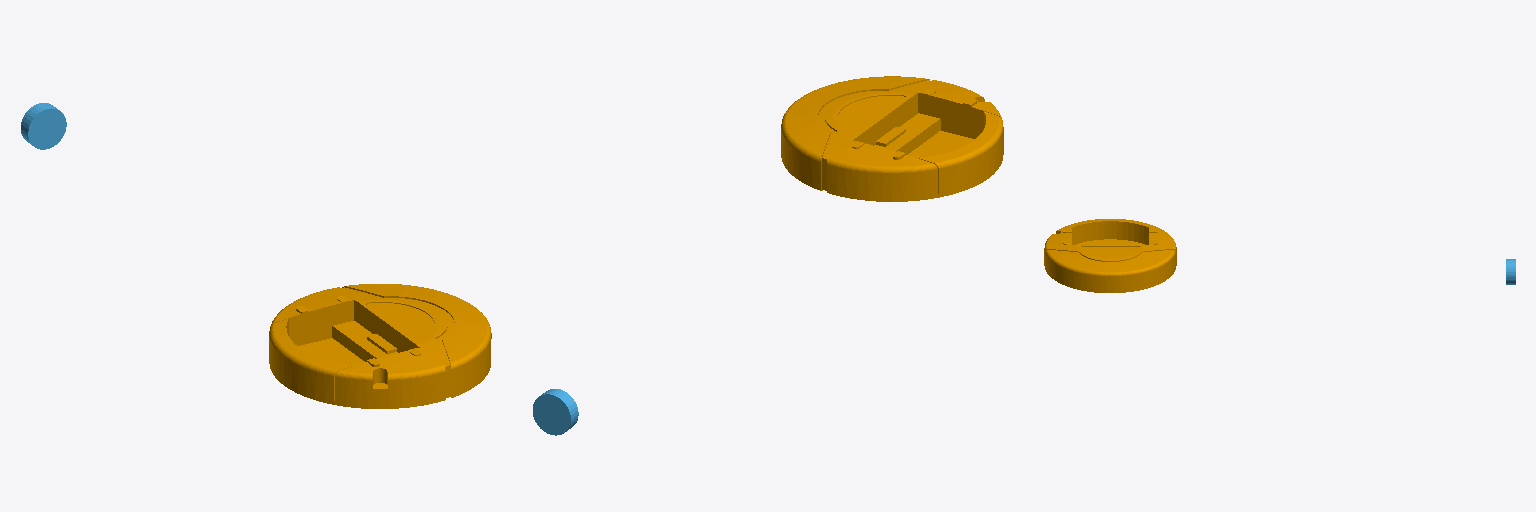
The robot description file, URDF, robot "roombaROS_cam":
<?xml version="1.0" ?>
<robot name="roombaROS_cam">
  <link name="base">
    <inertial>
      <origin rpy="0 0 0" xyz="0.001453 -0.000453 0.029787"/>
      <inertia ixx="0.058640" ixy="0.000124" ixz="0.000615" iyy="0.058786" iyz="0.000014" izz="1.532440"/>
      <mass value="2.234000"/>
    </inertial>
    <visual>
      <origin rpy="0 0 0" xyz="0 0 0.047800"/>
      <geometry>
        <mesh filename="package://roomba_robot/models/roombaROS/meshes/create_body.dae"/>
      </geometry>
    </visual>
    <visual>
      <origin rpy="0 1.570700 1.570700" xyz="0.130000 0 0.017000"/>
      <geometry>
        <sphere radius="0.009000"/>
      </geometry>
    </visual>
    <visual>
      <origin rpy="0 1.570700 1.570700" xyz="-0.130000 0 0.017000"/>
      <geometry>
        <sphere radius="0.007500"/>
      </geometry>
    </visual>
  </link>
  <link name="left_wheel">
    <origin rpy="0 0 0" xyz="0 0.130000 0.032000"/>
    <inertial>
      <inertia ixx="0.001000" ixy="0" ixz="0" iyy="0.001000" iyz="0" izz="0.001000"/>
      <mass value="0.010000"/>
    </inertial>
    <visual>
      <origin rpy="0 1.570700 1.570700" xyz="0 0 0"/>
      <geometry>
        <cylinder length="0.023000" radius="0.033000"/>
      </geometry>
    </visual>
  </link>
  <link name="right_wheel">
    <origin rpy="0 0 0" xyz="0 -0.130000 0.032000"/>
    <inertial>
      <inertia ixx="0.001000" ixy="0" ixz="0" iyy="0.001000" iyz="0" izz="0.001000"/>
      <mass value="0.010000"/>
    </inertial>
    <visual>
      <origin rpy="0 1.570700 1.570700" xyz="0 0 0"/>
      <geometry>
        <cylinder length="0.023000" radius="0.033000"/>
      </geometry>
    </visual>
  </link>
  <link name="laser">
    <origin rpy="0.000000 0.000000 0.000000" xyz="0.139000 0.000000 0.0752000"/>
    <inertial>
      <mass value="0.100000"/>
      <inertia ixx="1.000000" ixy="0.000000" ixz="0.000000" iyy="1.000000" iyz="0.000000" izz="1.000000"/>
    </inertial>
    <visual>
      <geometry>
        <mesh filename="package://roomba_robot/models/roombaROS/meshes/hokuyo_roomba.dae"/>
      </geometry>
    </visual>
    <kinematic>0</kinematic>
  </link>
  <joint name="left_wheel_joint" type="revolute">
    <parent link="base"/>
    <child link="left_wheel"/>
    <axis xyz="0 1 0"/>
    <origin xyz="0 1 0"/>
  </joint>
  <joint name="right_wheel_joint" type="revolute">
    <parent link="base"/>
    <child link="right_wheel"/>
    <axis xyz="0 1 0"/>
    <origin xyz="0 1 0"/>
  </joint>
  <joint name="joint_laser" type="fixed">
    <parent link="base"/>
    <child link="laser"/>
    <axis xyz="0.000000 0.000000 0.000000"/>
    <limit lower="0.000000" upper="0.000000"/>
    <origin xyz="0.000000 0.000000 0.000000"/>
  </joint>
</robot>

--- Render facts (derived) ---
Views: 3 orthographic renders of the robot side by side, from view 1: azimuth 30°, elevation 25°; view 2: azimuth 150°, elevation 25°; view 3: azimuth 270°, elevation 25°.
Model roombaROS_cam with 4 links and 3 joints (2 revolute, 1 fixed), rooted at base, posed every joint at zero.
Links seen in each view (by area): view 1: base, left_wheel; view 2: base, left_wheel; view 3: base.
Boxes of the visible links, x1,y1,x2,y2 form: base: (269, 284, 491, 408); left_wheel: (21, 103, 66, 149); base: (781, 76, 1003, 201); left_wheel: (533, 389, 578, 435); base: (1044, 219, 1176, 292).
Size in the robot's own frame: 0.33 by 1.18 by 0.1114 metres.
Meshes: 2 distinct files referenced, 1 mesh visuals loaded (1 Collada DAE); not drawn: 1 (reference not matched to a file when rendering).
